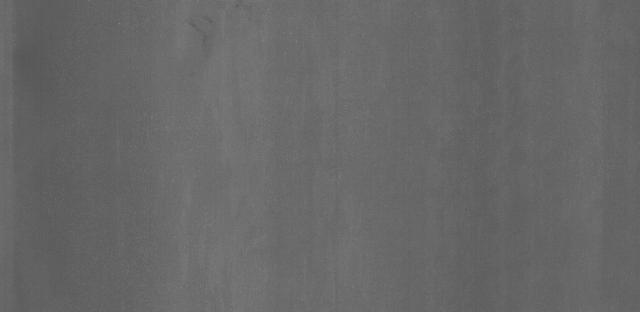water_spot: (185, 12, 254, 53)
